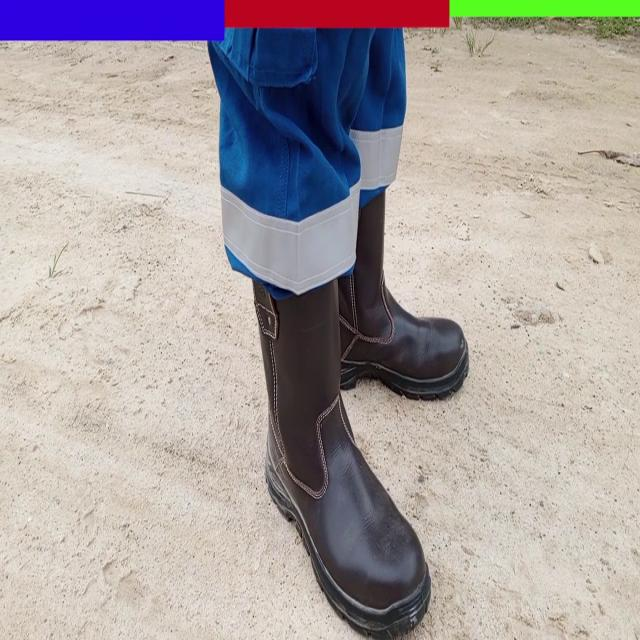Overall Suit: (210, 30, 404, 298)
Safety Boots: (254, 286, 430, 638), (341, 195, 470, 402)
